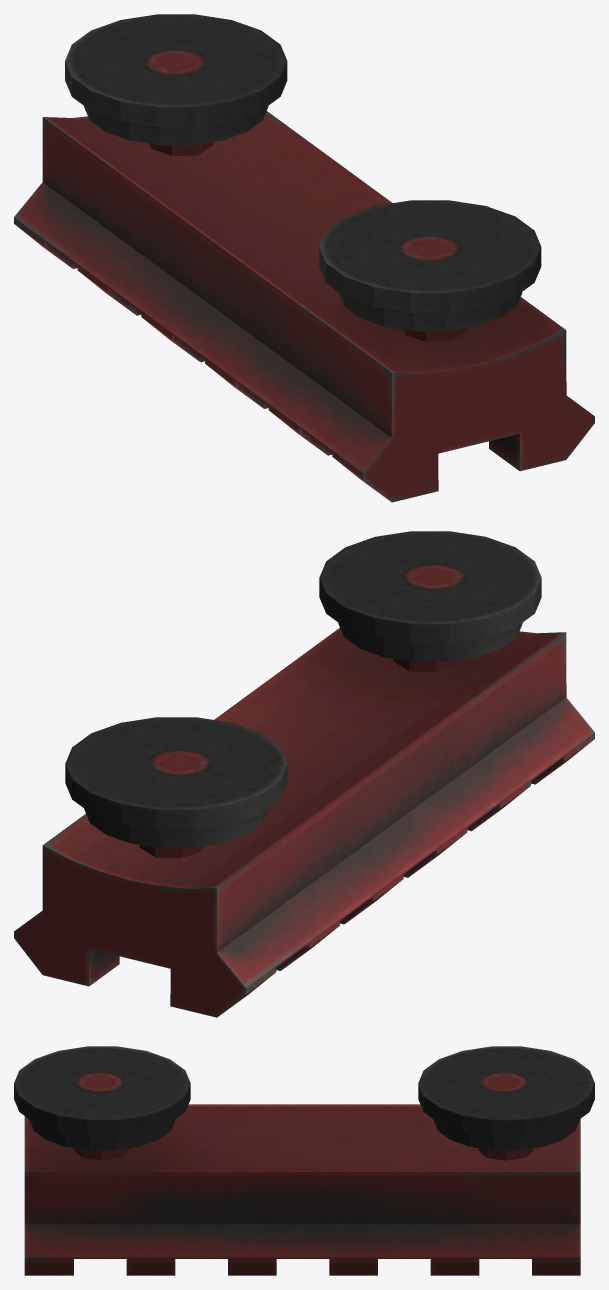
3 views of the same model, one above another, from view 1: azimuth 30°, elevation 25°; view 2: azimuth 150°, elevation 25°; view 3: azimuth 270°, elevation 25° (orthographic). The views are drawn at different scales.
Visible parts, largest first — view 1: TW_5b84038986f774774913b0c1_PZ_Import; view 2: TW_5b84038986f774774913b0c1_PZ_Import; view 3: TW_5b84038986f774774913b0c1_PZ_Import.
Part boxes in pixels (x1=…): TW_5b84038986f774774913b0c1_PZ_Import: x1=14, y1=14, x2=594, y2=502; TW_5b84038986f774774913b0c1_PZ_Import: x1=14, y1=531, x2=594, y2=1017; TW_5b84038986f774774913b0c1_PZ_Import: x1=14, y1=1046, x2=594, y2=1275.
Size of the model in its own units: 0.0121 by 0.0331 by 0.00996.
Materials: 1 (1 with a texture image).
